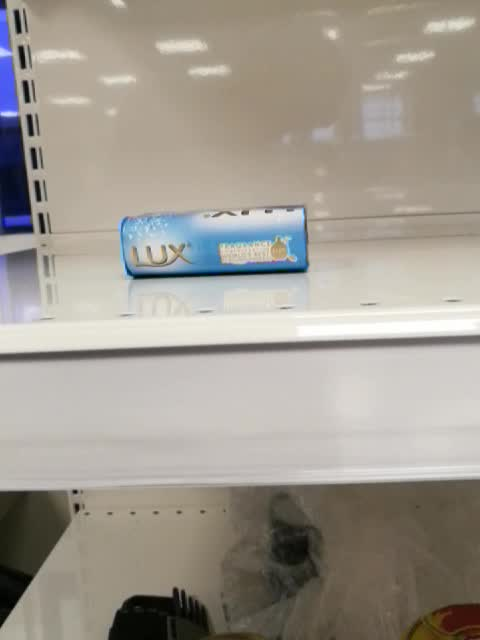soap: (119, 204, 310, 280)
